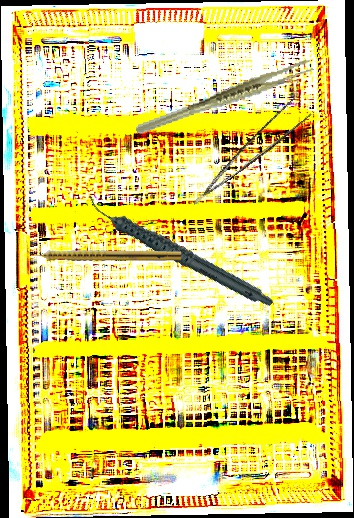Handpiece: (84, 161, 275, 342), (27, 248, 181, 261)
Tissue Forceps: (178, 93, 318, 205), (129, 58, 320, 136)
